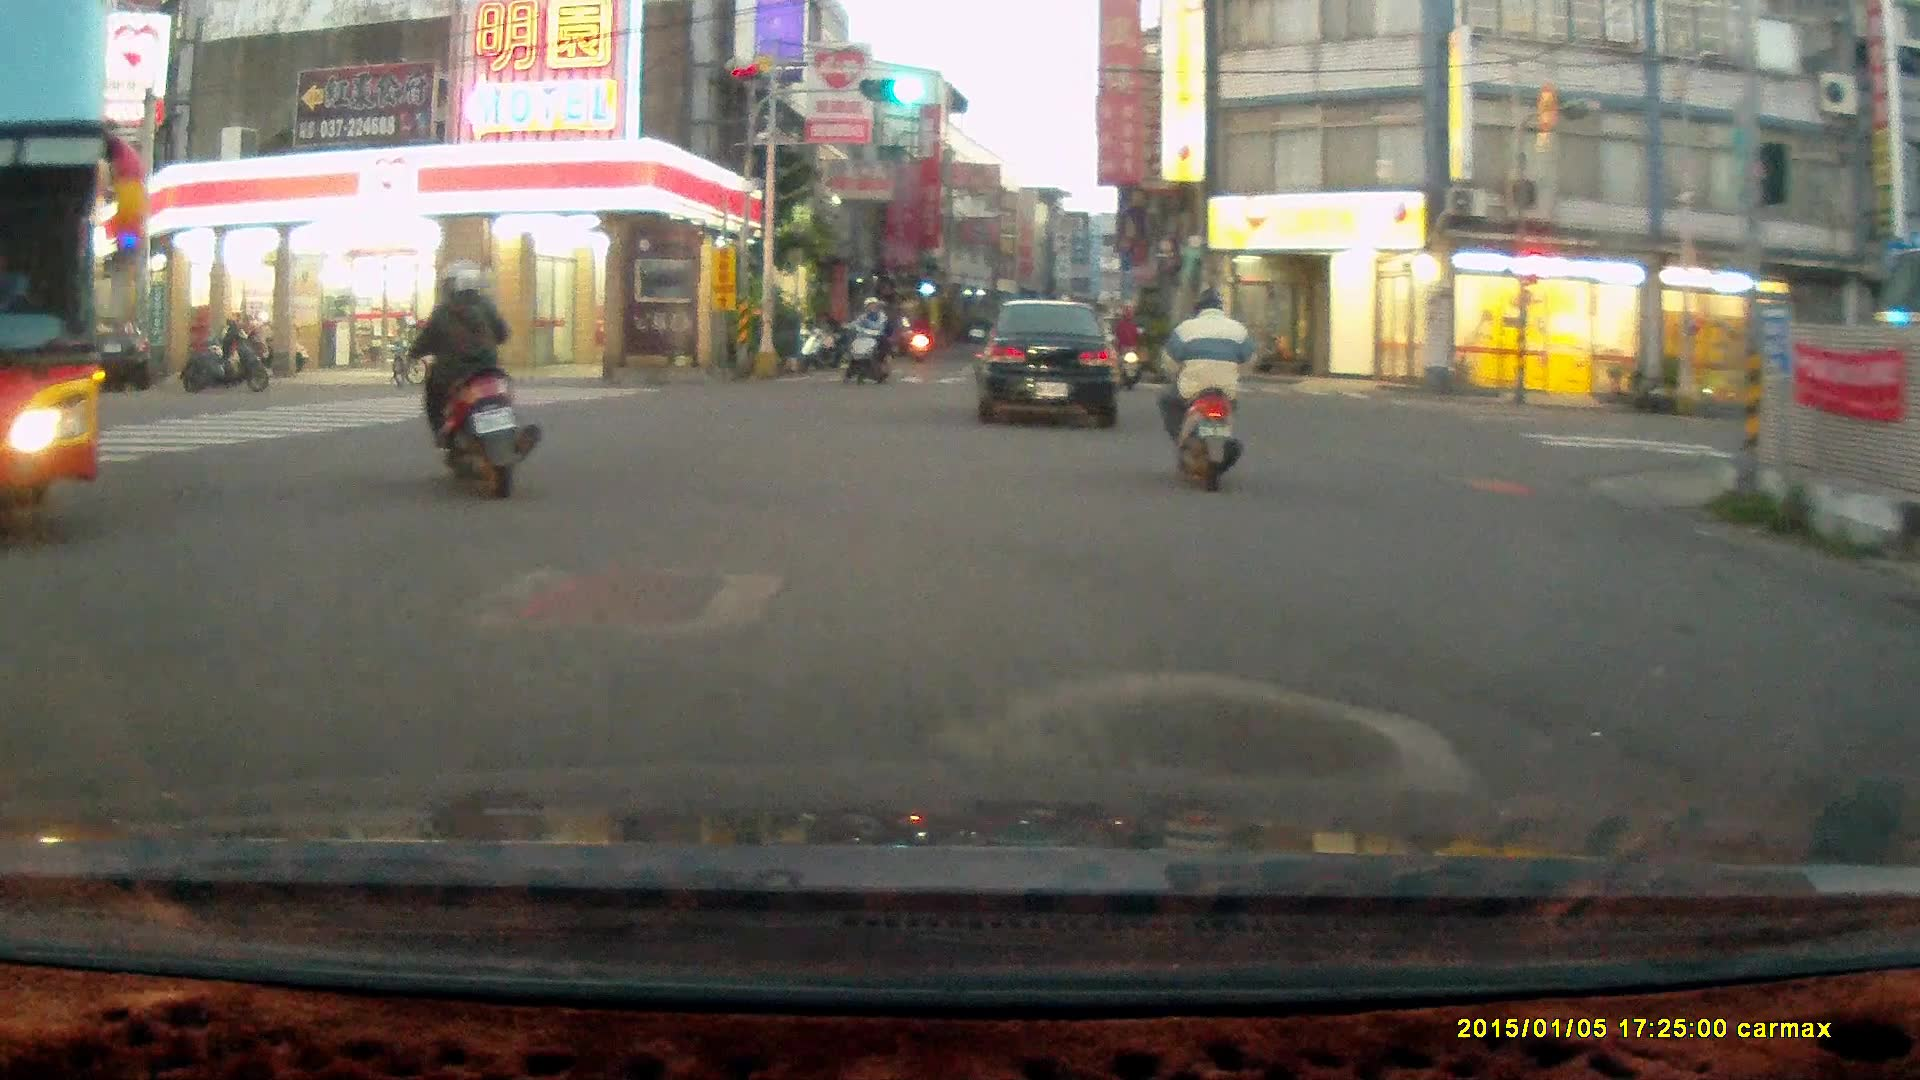rider: (395, 257, 538, 496), (1159, 285, 1249, 492), (841, 291, 898, 387), (1108, 299, 1146, 386)
vehicle: (1, 21, 113, 534), (977, 296, 1123, 429)
